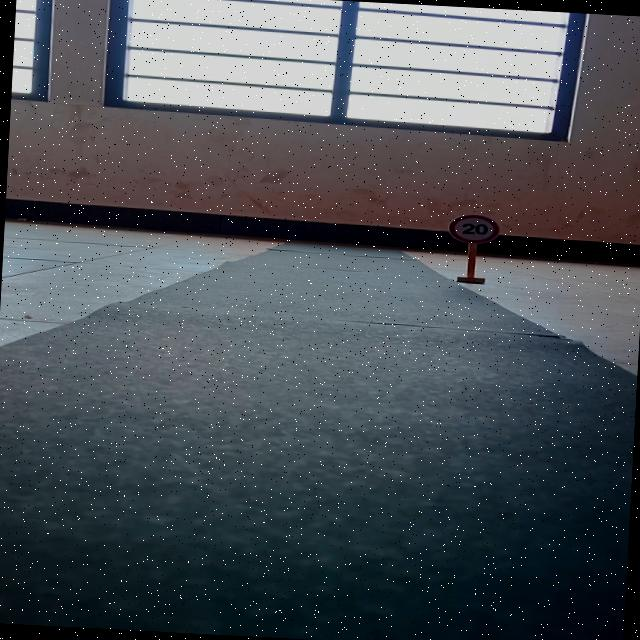Speed20: (446, 210, 506, 250)
